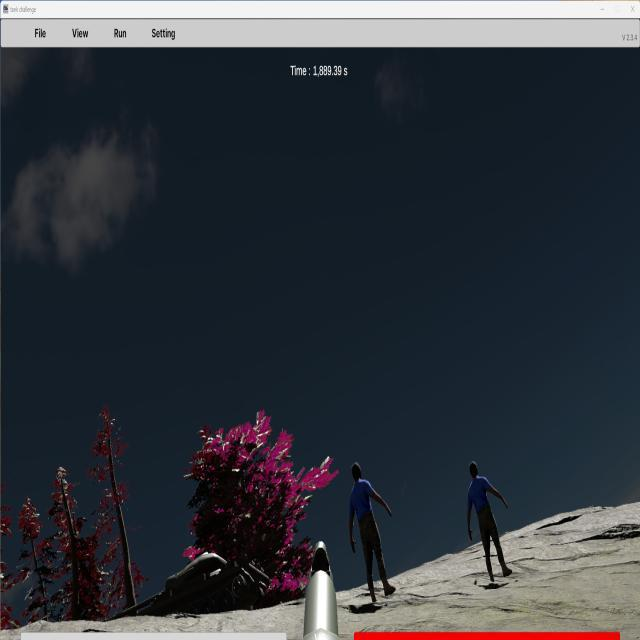Human: (349, 461, 396, 604), (467, 460, 511, 586)
